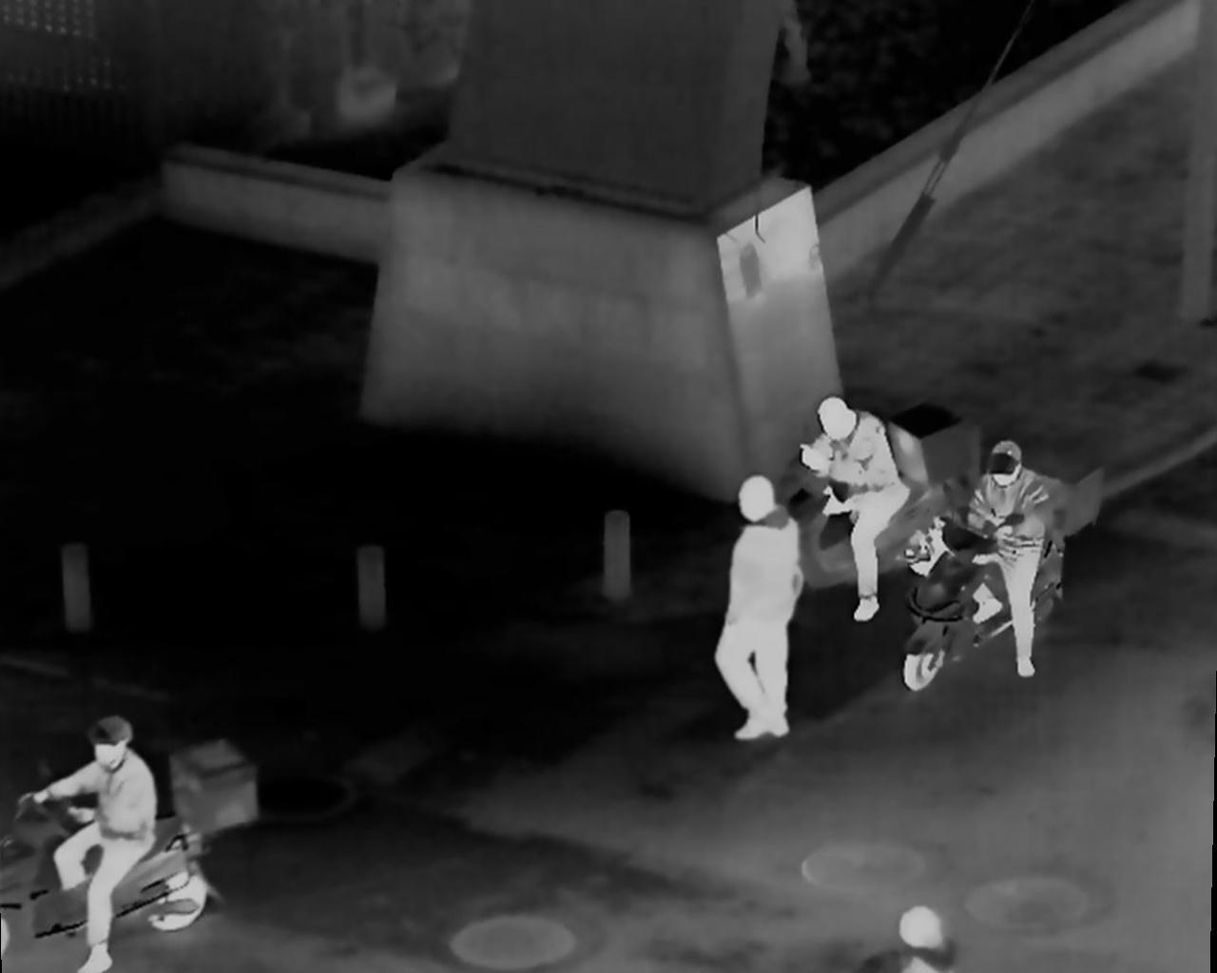person: (954, 424, 1079, 678), (44, 713, 174, 949), (814, 387, 906, 601), (724, 479, 795, 729)
